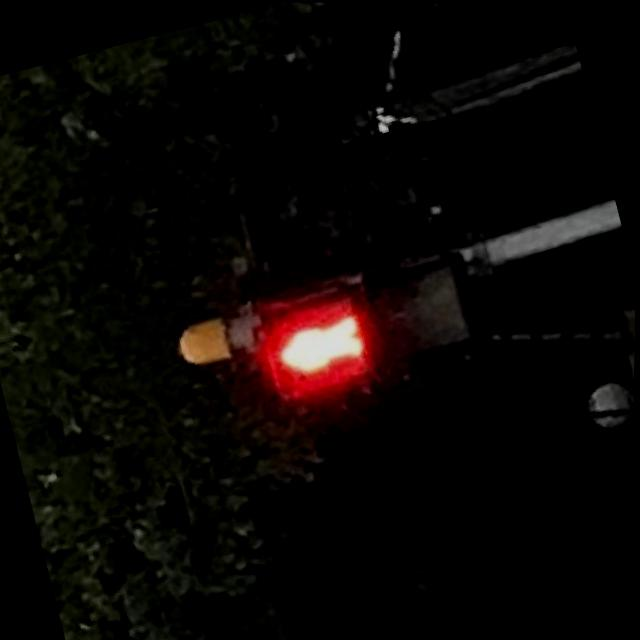red_light: (257, 289, 379, 398)
